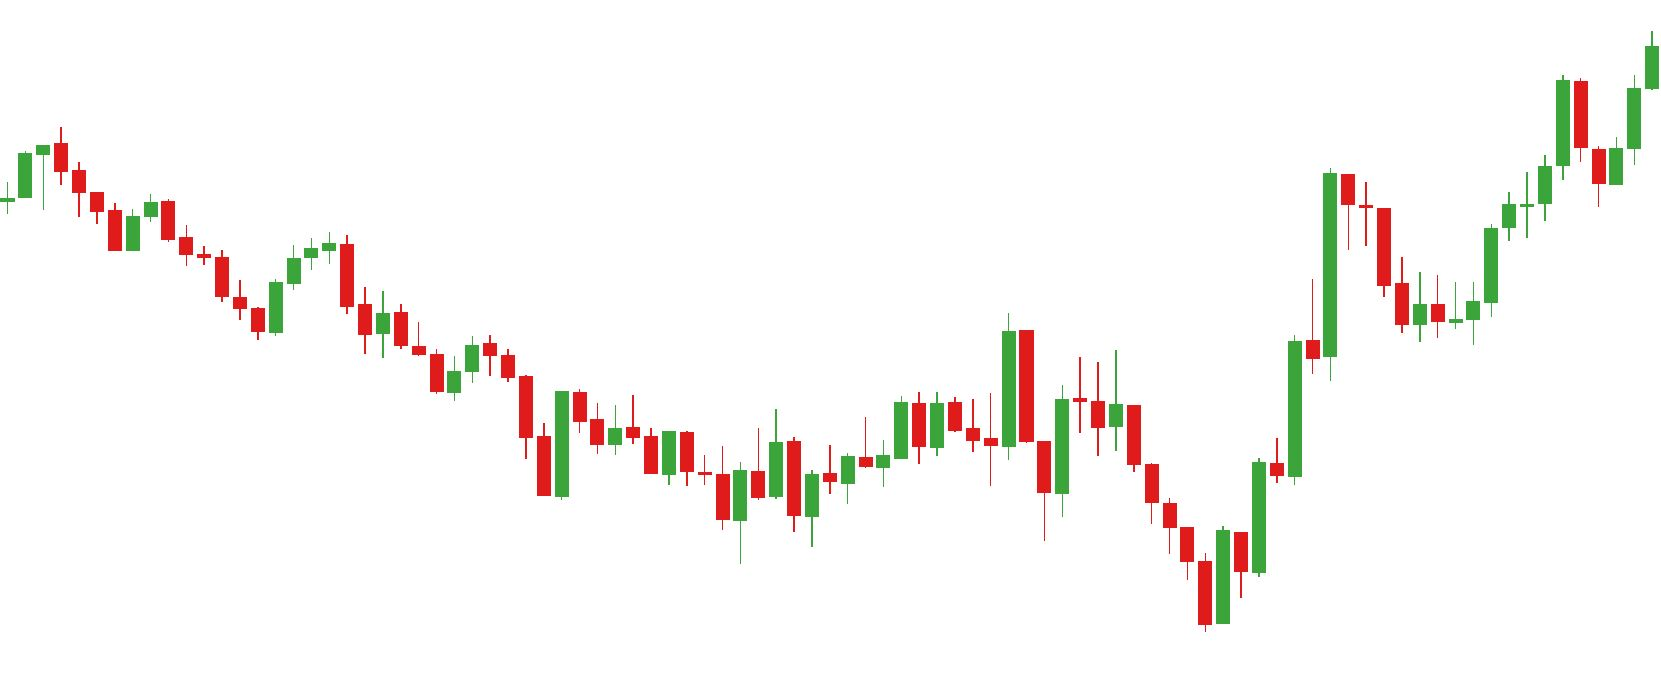buy: (730, 417, 1233, 629)
